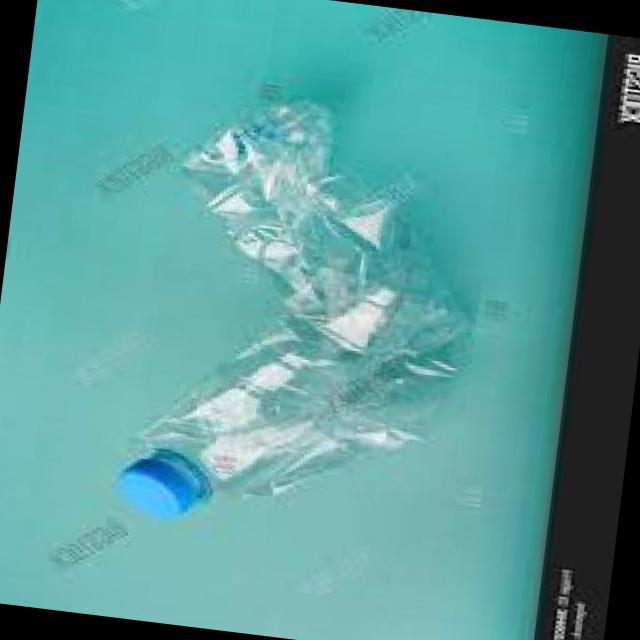defected: (92, 75, 504, 560)
